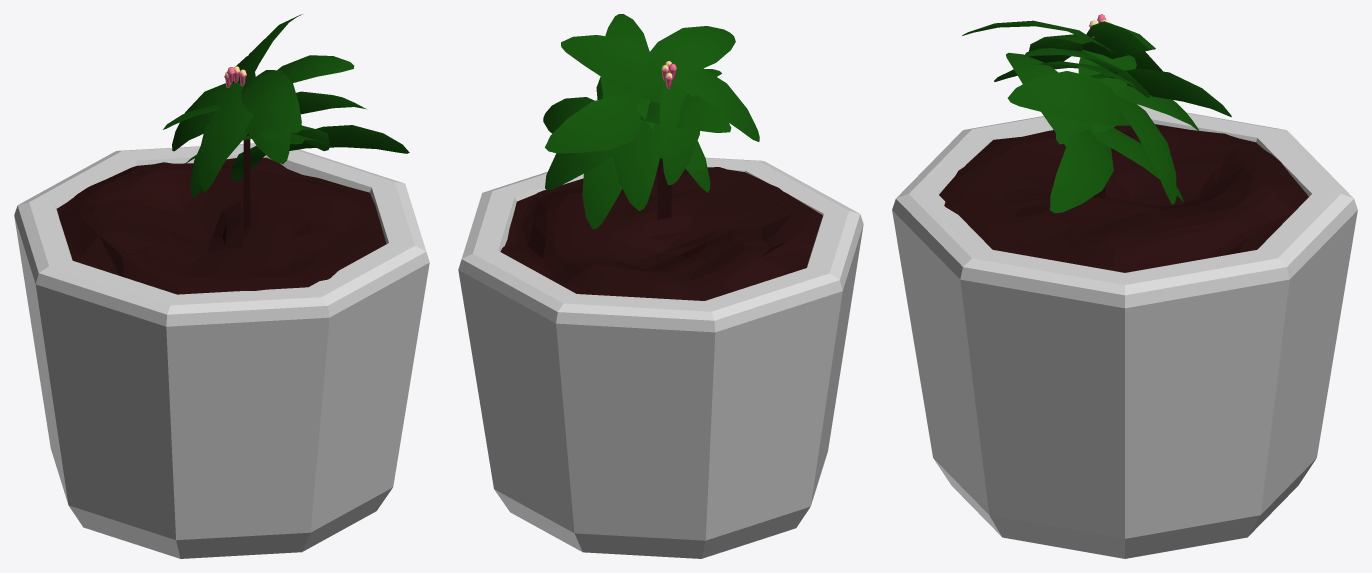
The model's file is clove.glb.
3 renders of one model, left to right at view 1: azimuth 30°, elevation 25°; view 2: azimuth 150°, elevation 25°; view 3: azimuth 270°, elevation 25°, orthographic. The views are drawn at different scales.
Parts seen in each view (by area): view 1: clove; view 2: clove; view 3: clove.
Part boxes in pixels (box(x1,y1,x2,y2)): clove: box(14, 14, 429, 558); clove: box(458, 14, 863, 558); clove: box(892, 14, 1357, 558).
Bounding box in the file's own units: 1.39 × 1.66 × 1.39.
